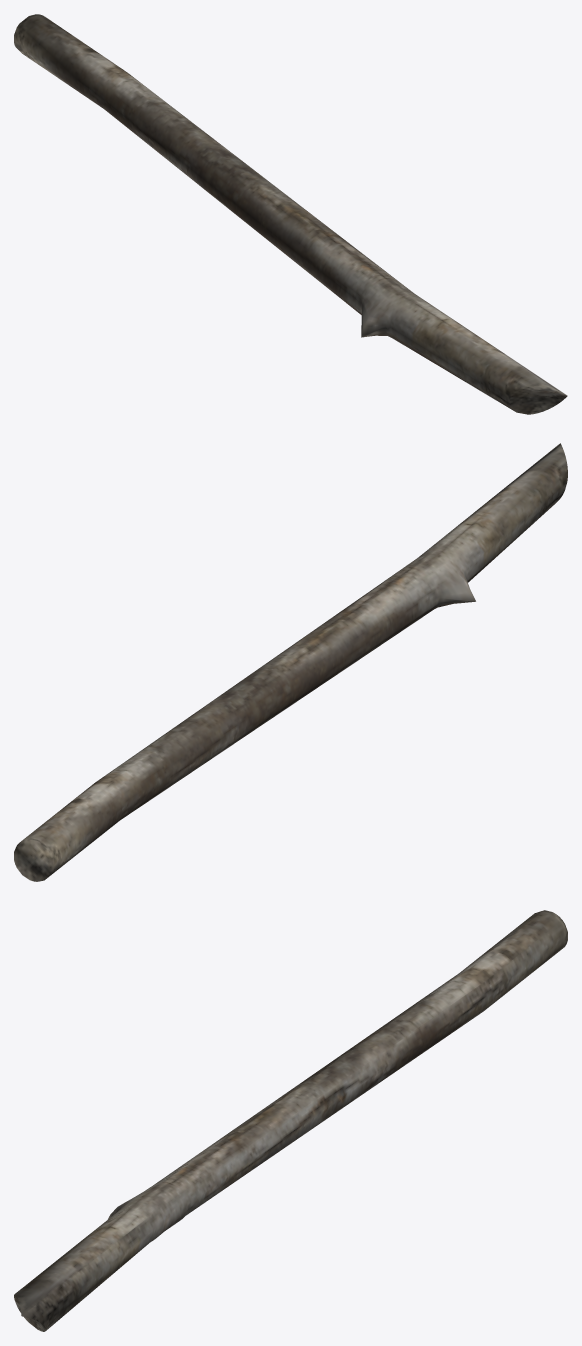
The model's file is SM_Twigs_5.fbx.
3 views of the same model, one above another, from view 1: azimuth 30°, elevation 25°; view 2: azimuth 150°, elevation 25°; view 3: azimuth 330°, elevation 25° (orthographic). The views are drawn at different scales.
Visible parts, largest first — view 1: SM_Twigs_5_LOD0; view 2: SM_Twigs_5_LOD0; view 3: SM_Twigs_5_LOD0.
Boxes of the visible parts, left/top/right/bottom form: SM_Twigs_5_LOD0: left=14, top=14, right=567, bottom=414; SM_Twigs_5_LOD0: left=14, top=443, right=567, bottom=881; SM_Twigs_5_LOD0: left=14, top=910, right=567, bottom=1331.
Size of the model in its own units: 2.66 by 33.76 by 1.47.
